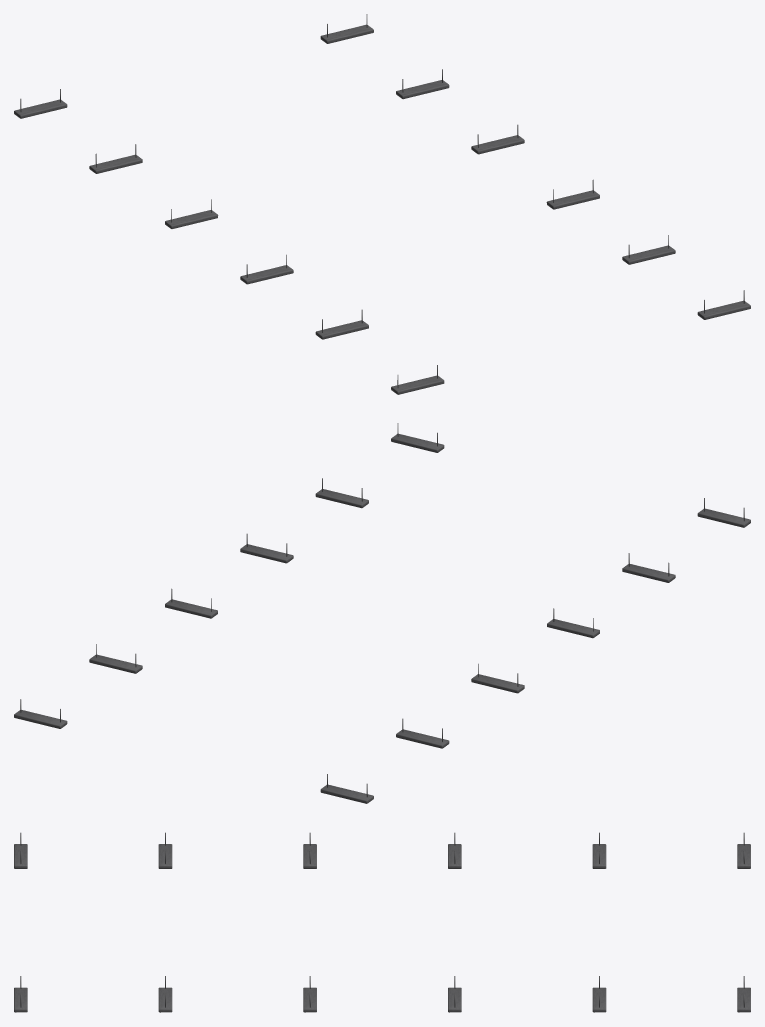
Rendered from skatepark.fbx_lamps_roof.fbx.
The picture shows the model from 3 angles, top to bottom: view 1: azimuth 30°, elevation 25°; view 2: azimuth 150°, elevation 25°; view 3: azimuth 270°, elevation 25°; orthographic projection. The views are drawn at different scales.
Parts seen in each view (by area): view 1: roof_lamp2, roof_lamp; view 2: roof_lamp2, roof_lamp; view 3: roof_lamp2, roof_lamp.
Part boxes in pixels (<box>): roof_lamp2: <box>320,14,750,319</box>; roof_lamp: <box>14,89,444,394</box>; roof_lamp2: <box>14,423,444,728</box>; roof_lamp: <box>320,498,750,803</box>; roof_lamp2: <box>14,976,750,1012</box>; roof_lamp: <box>14,832,750,868</box>.
Bounding box in the file's own units: 1690 × 78.09 × 3182.
2 materials, 1 textured.
